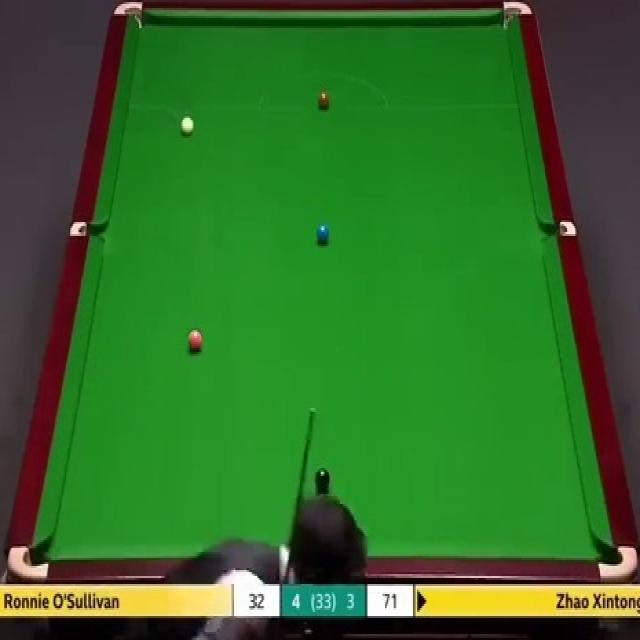pocket: (4, 542, 49, 580), (596, 543, 637, 582), (112, 0, 145, 34), (499, 0, 530, 32), (539, 218, 576, 240), (67, 220, 105, 235)
